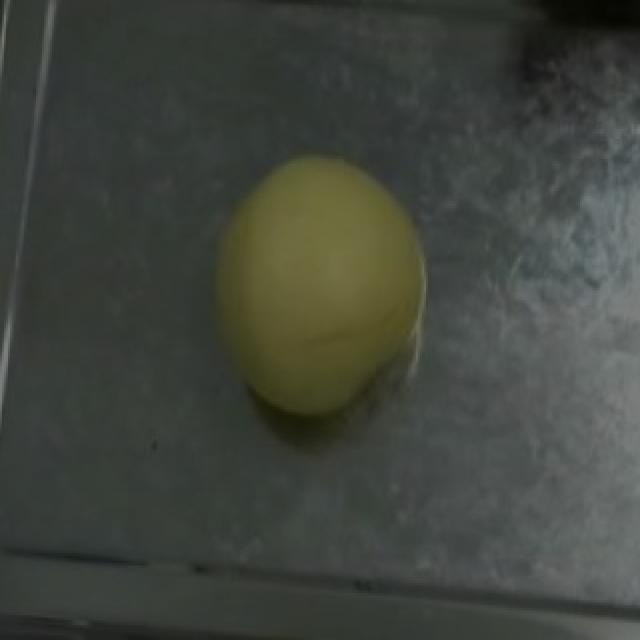Fruit: (188, 134, 454, 437)
